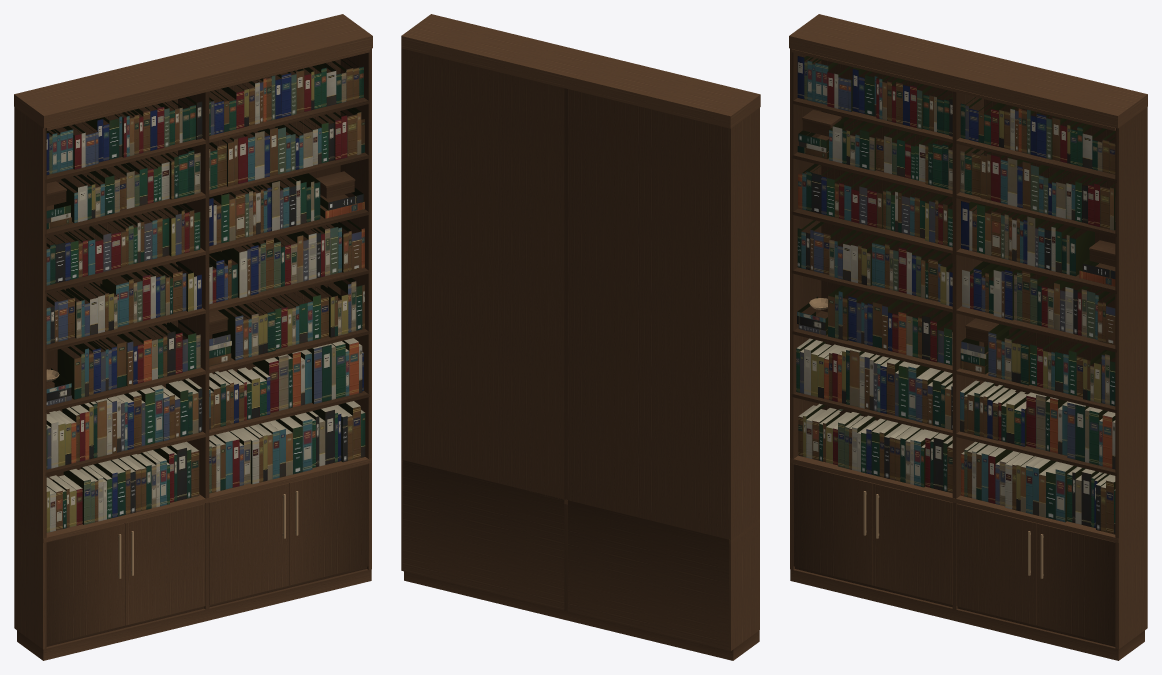
Rendered from library_bookcase_o.gltf.
The picture shows the model from 3 angles, left to right: view 1: azimuth 30°, elevation 25°; view 2: azimuth 150°, elevation 25°; view 3: azimuth 330°, elevation 25°; orthographic projection.
Parts seen in each view (by area): view 1: LibraryBookcaseO_Carcass, LibraryBookcaseO_Books, LibraryBookcaseO_Bronze; view 2: LibraryBookcaseO_Carcass; view 3: LibraryBookcaseO_Carcass, LibraryBookcaseO_Books, LibraryBookcaseO_Bronze.
Part boxes in pixels (x1,y1,x2,y2): LibraryBookcaseO_Carcass: (14,14,372,660); LibraryBookcaseO_Books: (46,58,365,532); LibraryBookcaseO_Bronze: (46,369,298,578); LibraryBookcaseO_Carcass: (401,14,760,660); LibraryBookcaseO_Carcass: (789,14,1147,660); LibraryBookcaseO_Books: (796,56,1115,534); LibraryBookcaseO_Bronze: (809,298,1043,578).
Size of the model in its own units: 2.36 by 3.74 by 0.38.
Materials: 3 (2 with a texture image).
